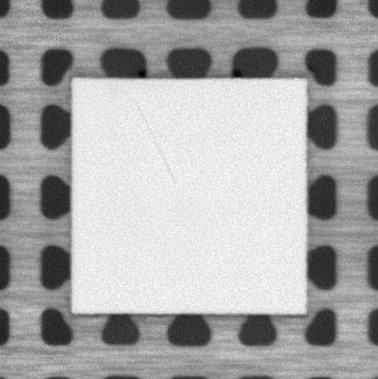DIE_CRACK: (135, 101, 177, 186)
